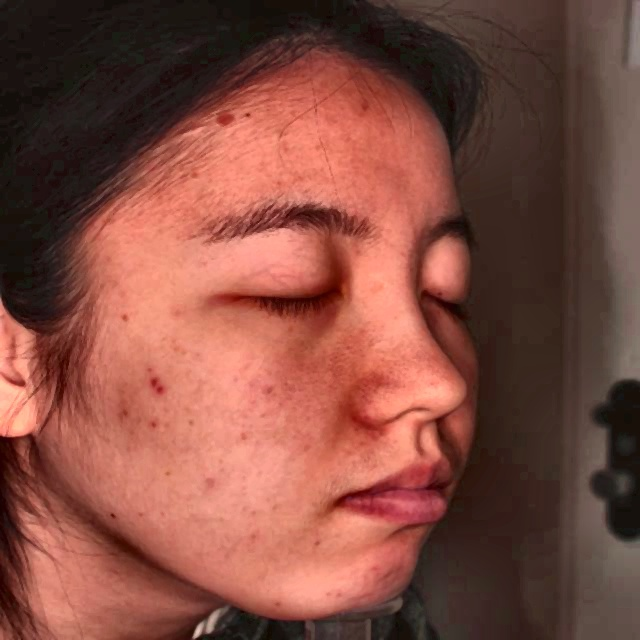comedone: (143, 373, 165, 403)
